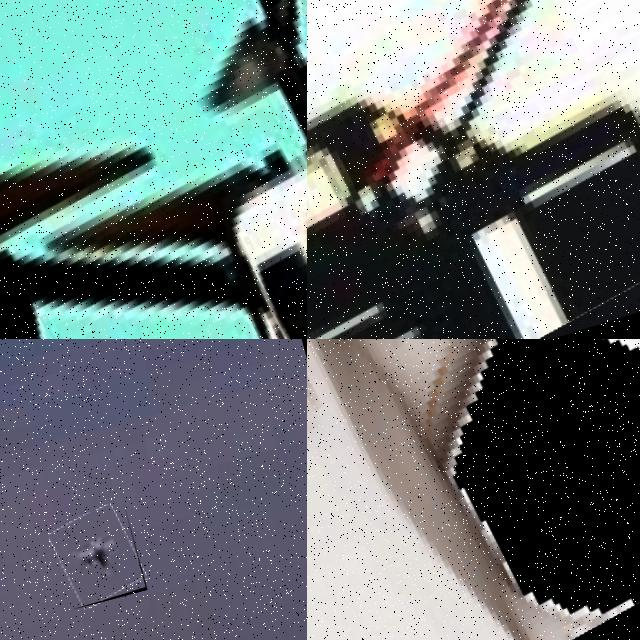drone: (307, 0, 640, 339), (0, 0, 307, 339), (307, 339, 640, 640), (48, 502, 146, 610)
